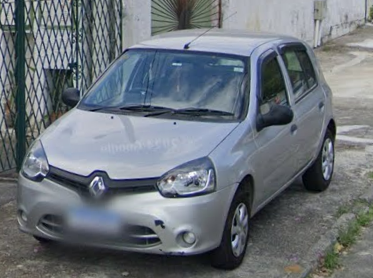car: (17, 29, 336, 270)
